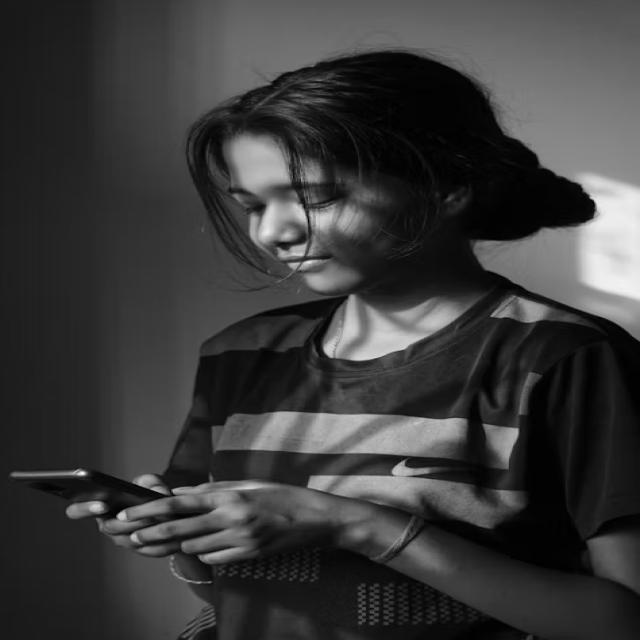Edited images: (74, 32, 640, 640)
